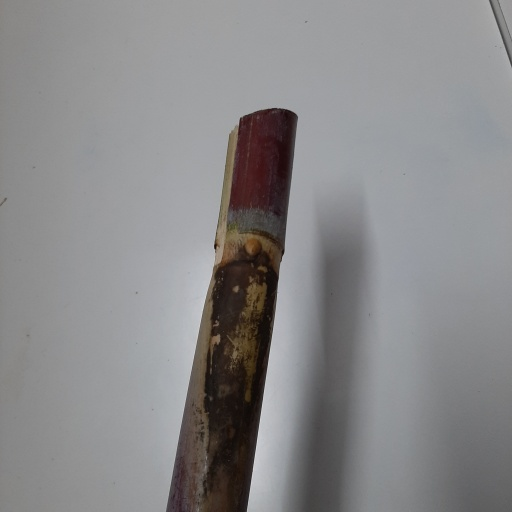Bud: (243, 237, 262, 261)
